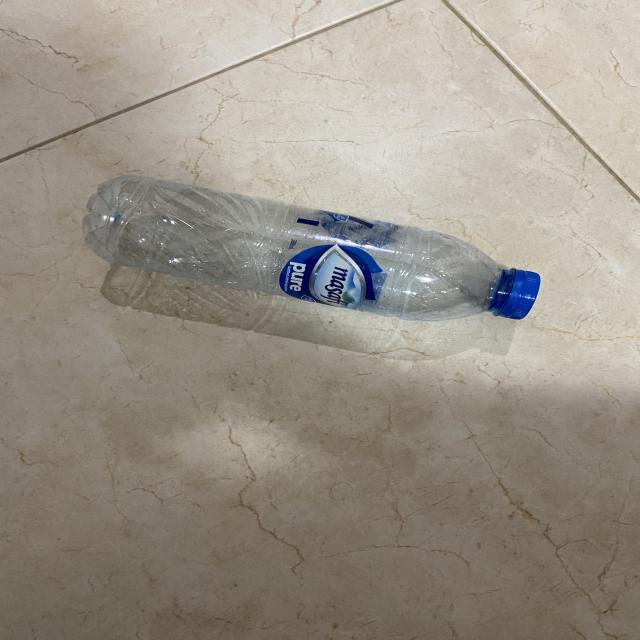bottle: (79, 171, 543, 322)
